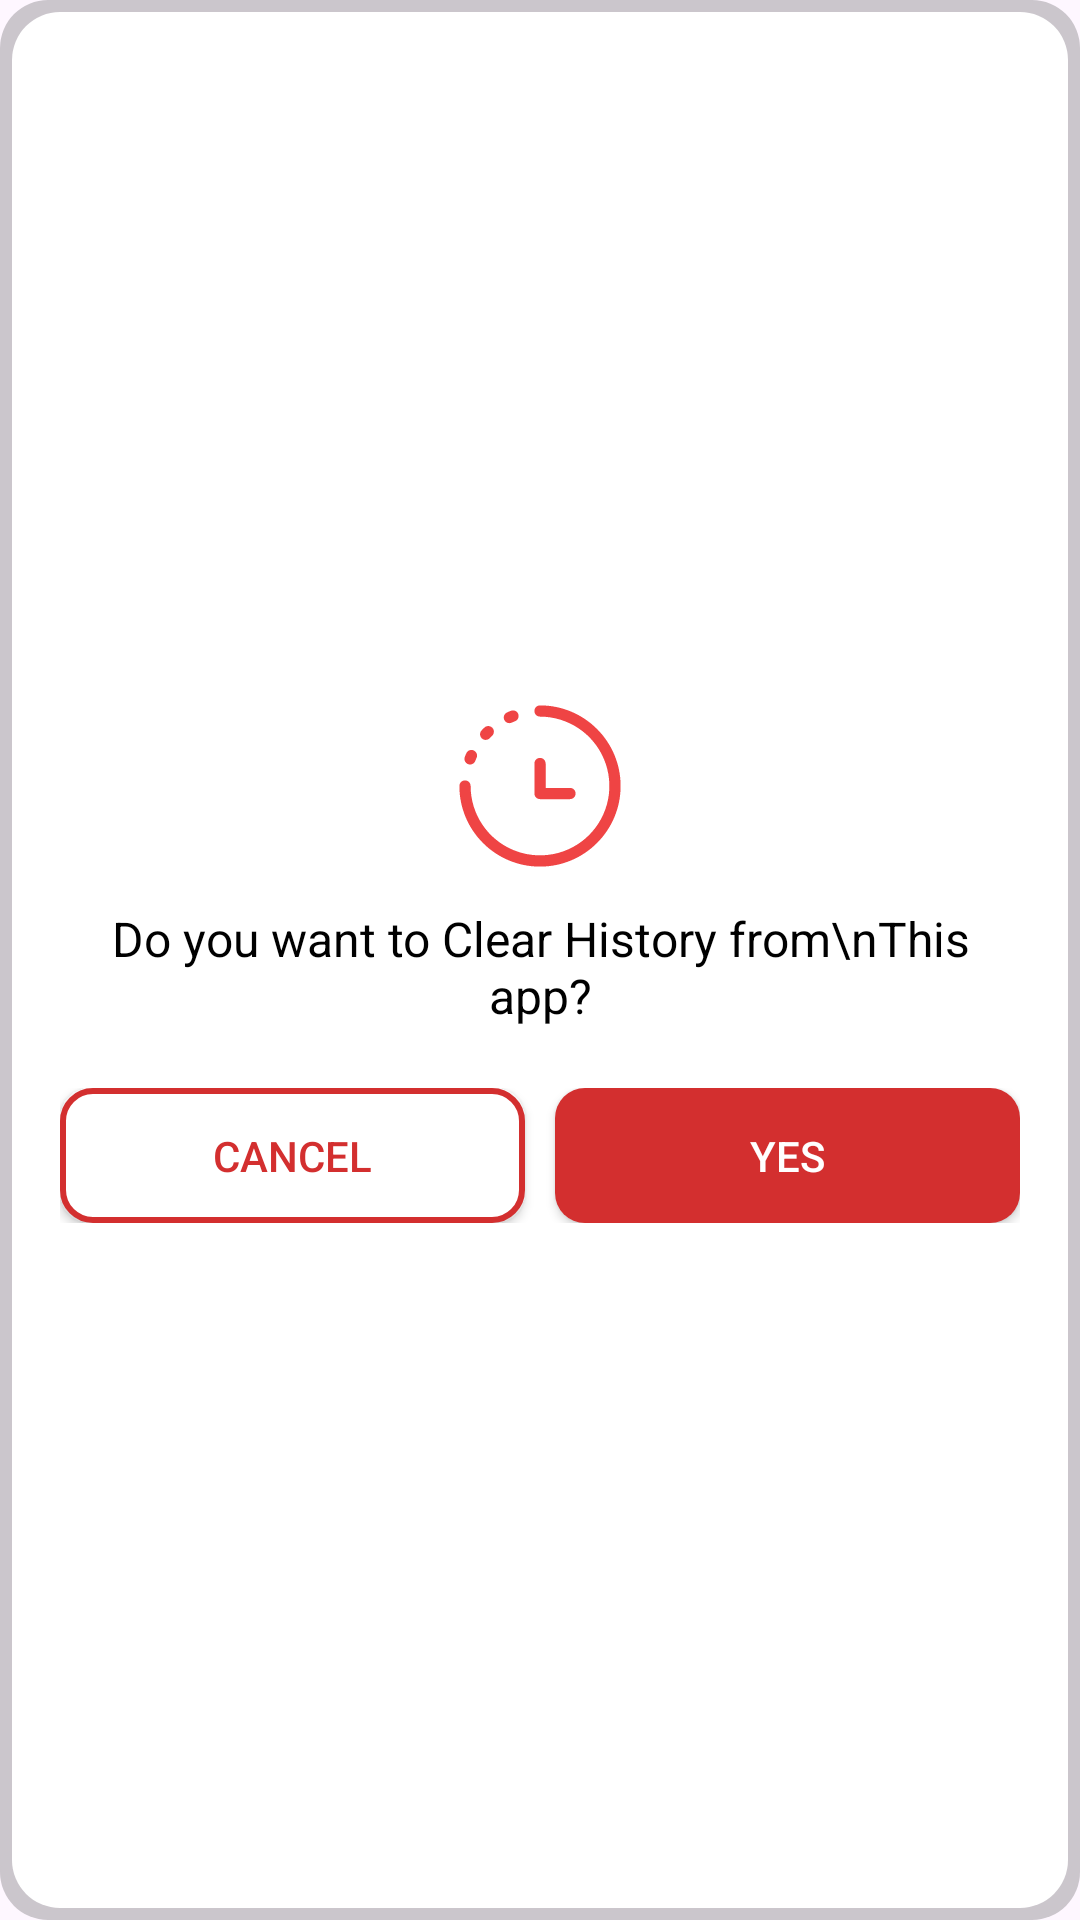

Named icons in this screenshot (1080px×1920px) and their bounding boxes, (x1, y1, x2, y2):
solar history: (459, 705, 621, 867)
